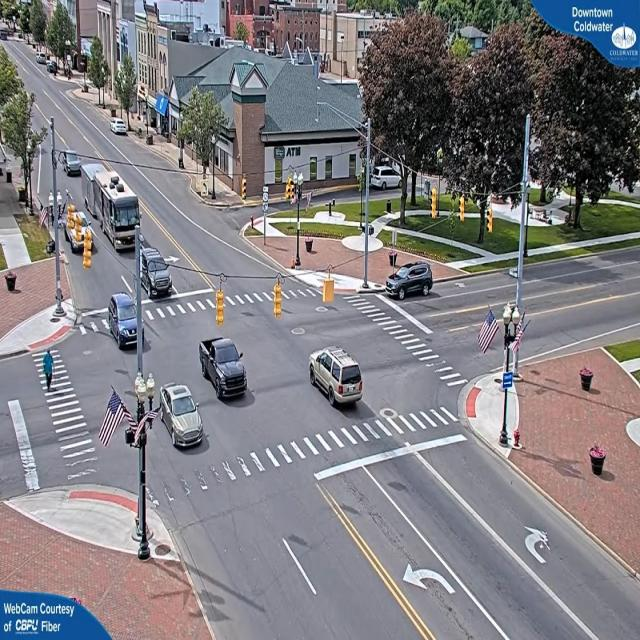car: (309, 348, 365, 407), (199, 340, 249, 402), (161, 384, 204, 449), (107, 291, 142, 346), (386, 260, 434, 300), (140, 252, 175, 298), (62, 153, 81, 176), (112, 119, 129, 136)
truck: (97, 181, 144, 249)
